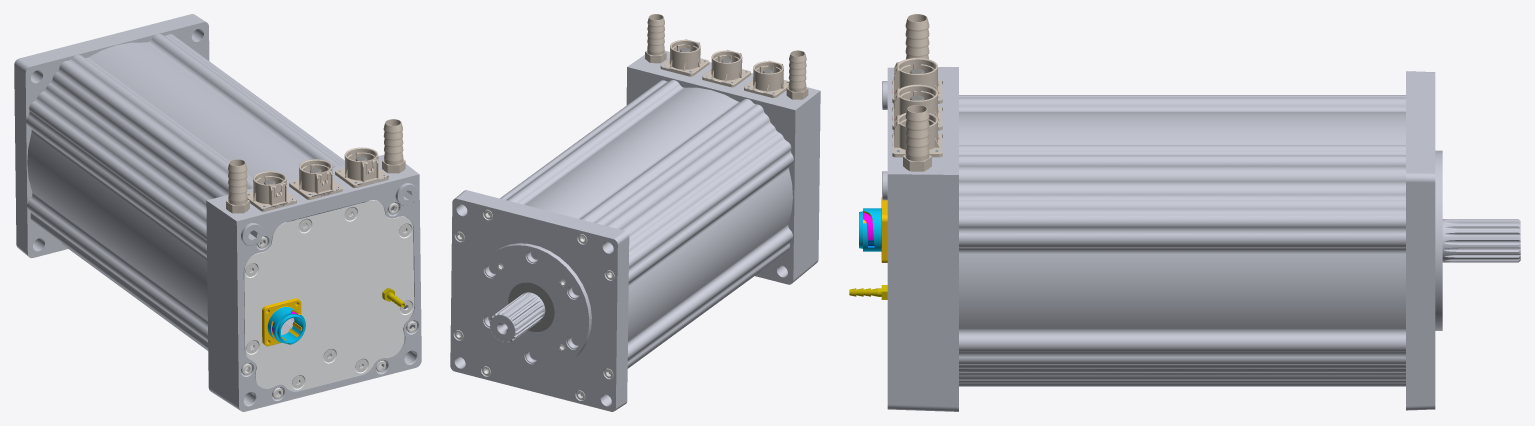
Rendered from IEV 180-4U.glb.
The picture shows the model from 3 angles, left to right: view 1: azimuth 30°, elevation 25°; view 2: azimuth 150°, elevation 25°; view 3: azimuth 270°, elevation 25°; orthographic projection. The views are drawn at different scales.
Visible parts, largest first — view 1: iEV 180-4U CAD; view 2: iEV 180-4U CAD; view 3: iEV 180-4U CAD.
Boxes of the visible parts, x1,y1,x2,y2 form: iEV 180-4U CAD: (14,14,421,411); iEV 180-4U CAD: (450,14,820,411); iEV 180-4U CAD: (849,14,1520,411).
Bounding box in the file's own units: 18.42 × 22.76 × 46.45.
